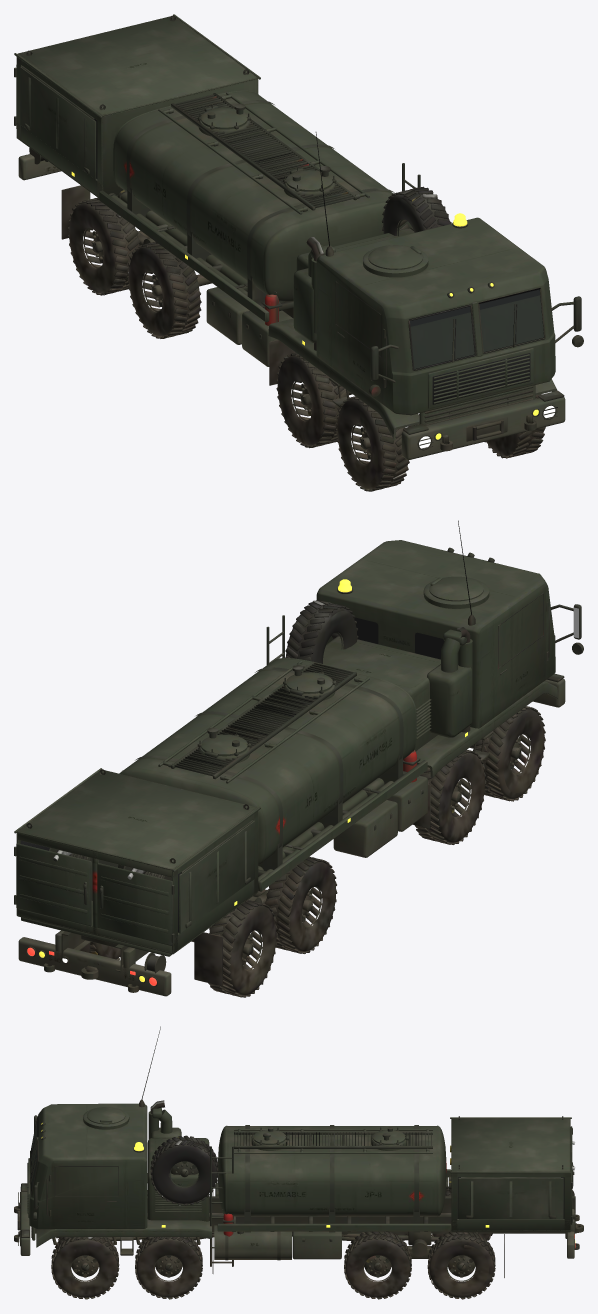
File: hemtt_m978a4_web.glb
3 renders of one model, top to bottom at view 1: azimuth 30°, elevation 25°; view 2: azimuth 150°, elevation 25°; view 3: azimuth 270°, elevation 25°, orthographic. The views are drawn at different scales.
Parts seen in each view (by area): view 1: Cab_Shell, Tank_Shell, Pump_Enclosure, Bumper, Catwalk_And_Handrails, Cab_Glass, Wheel_3_Right_Mesh, Tank_Cradles, Wheel_4_Right_Mesh, Pump_Side_Door_Right_Panel, Wheel_1_Right_Mesh, Wheel_2_Right_Mesh (+15 smaller); view 2: Tank_Shell, Cab_Shell, Pump_Enclosure, Engine_Bay, Catwalk_And_Handrails, Pump_Door_Right_Panel, Pump_Door_Left_Panel, Tank_Cradles, Wheel_3_Right_Mesh, Rear_Bumper, Pump_Side_Door_Right_Panel, Wheel_4_Right_Mesh (+12 smaller); view 3: Tank_Shell, Cab_Shell, Pump_Enclosure, Pump_Side_Door_Left_Panel, Tank_Cradles, Wheel_3_Left_Mesh, Wheel_4_Left_Mesh, Wheel_2_Left_Mesh, Wheel_1_Left_Mesh, Spare_Tire_Mesh, Frame_And_Running_Gear, Engine_Bay (+9 smaller).
Boxes of the visible parts, left/top/right/bottom form: Cab_Shell: left=316, top=217, right=555, bottom=415; Tank_Shell: left=113, top=90, right=411, bottom=301; Pump_Enclosure: left=14, top=14, right=260, bottom=198; Bumper: left=401, top=385, right=565, bottom=459; Catwalk_And_Handrails: left=158, top=92, right=369, bottom=214; Cab_Glass: left=410, top=290, right=543, bottom=368; Wheel_3_Right_Mesh: left=127, top=241, right=201, bottom=338; Tank_Cradles: left=99, top=100, right=394, bottom=322; Wheel_4_Right_Mesh: left=68, top=197, right=140, bottom=295; Pump_Side_Door_Right_Panel: left=20, top=66, right=96, bottom=179; Wheel_1_Right_Mesh: left=336, top=396, right=409, bottom=491; Wheel_2_Right_Mesh: left=276, top=352, right=346, bottom=448; Tank_Shell: left=119, top=658, right=416, bottom=865; Cab_Shell: left=316, top=540, right=555, bottom=728; Pump_Enclosure: left=14, top=768, right=260, bottom=954; Engine_Bay: left=323, top=627, right=472, bottom=751; Catwalk_And_Handrails: left=158, top=661, right=369, bottom=783; Pump_Door_Right_Panel: left=97, top=863, right=174, bottom=945; Pump_Door_Left_Panel: left=14, top=843, right=91, bottom=926; Tank_Cradles: left=135, top=667, right=427, bottom=891; Wheel_3_Right_Mesh: left=264, top=856, right=337, bottom=953; Rear_Bumper: left=18, top=917, right=172, bottom=996; Pump_Side_Door_Right_Panel: left=179, top=820, right=254, bottom=933; Wheel_4_Right_Mesh: left=208, top=900, right=277, bottom=997; Tank_Shell: left=217, top=1125, right=446, bottom=1216; Cab_Shell: left=29, top=1103, right=147, bottom=1229; Pump_Enclosure: left=450, top=1116, right=571, bottom=1231; Pump_Side_Door_Left_Panel: left=458, top=1177, right=563, bottom=1219; Tank_Cradles: left=217, top=1125, right=451, bottom=1232; Wheel_3_Left_Mesh: left=344, top=1231, right=411, bottom=1299; Wheel_4_Left_Mesh: left=427, top=1231, right=495, bottom=1299; Wheel_2_Left_Mesh: left=135, top=1237, right=202, bottom=1299; Wheel_1_Left_Mesh: left=51, top=1237, right=119, bottom=1299; Spare_Tire_Mesh: left=150, top=1135, right=218, bottom=1205; Frame_And_Running_Gear: left=35, top=1196, right=575, bottom=1258; Engine_Bay: left=147, top=1100, right=209, bottom=1221.
Bounding box in the file's own units: 3.16 × 4.45 × 10.39.
Materials: 9 (3 with a texture image).
